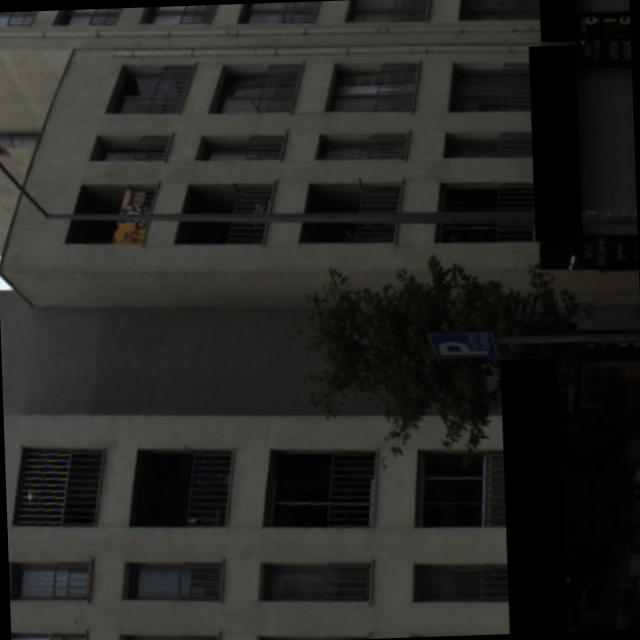SignStore: (515, 357, 562, 633), (536, 43, 579, 239), (541, 0, 577, 40)
